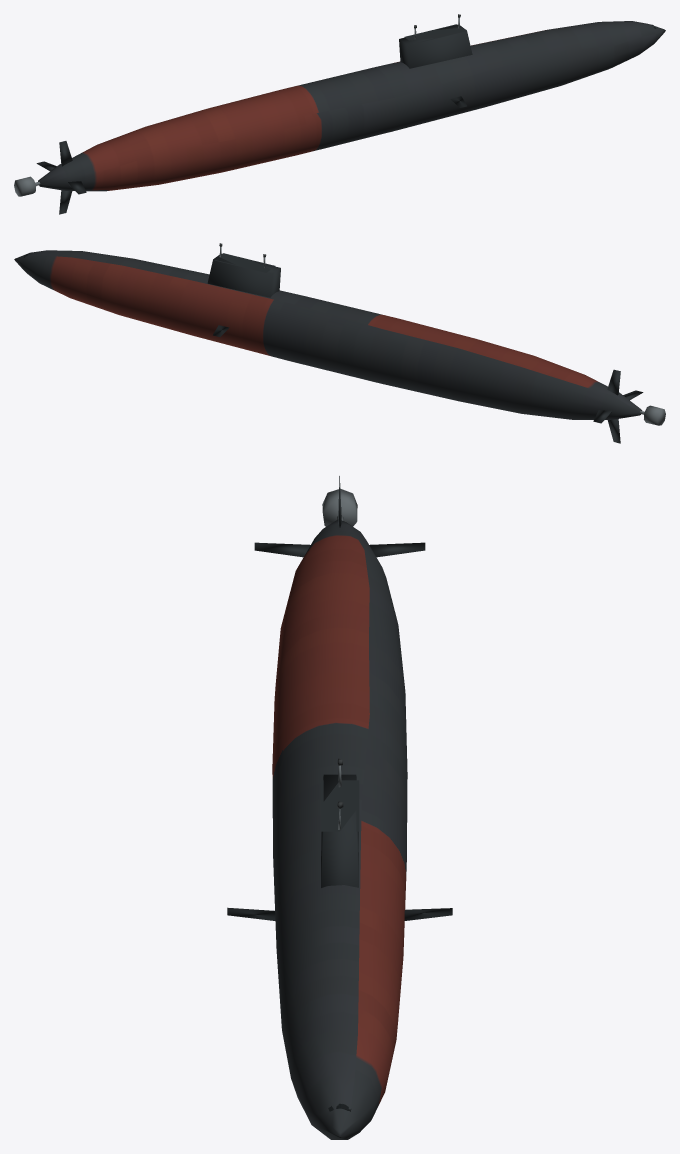
The model's file is RU_SSN_YasenM_LOD3.fbx.
3 renders of one model, top to bottom at view 1: azimuth 30°, elevation 25°; view 2: azimuth 150°, elevation 25°; view 3: azimuth 270°, elevation 25°, orthographic. The views are drawn at different scales.
Visible parts, largest first — view 1: RU_SSN_YasenM_LOD3; view 2: RU_SSN_YasenM_LOD3; view 3: RU_SSN_YasenM_LOD3.
Boxes of the visible parts, bbox=[...] form: RU_SSN_YasenM_LOD3: bbox=[14, 14, 665, 214]; RU_SSN_YasenM_LOD3: bbox=[14, 243, 665, 443]; RU_SSN_YasenM_LOD3: bbox=[227, 476, 452, 1139].
Size of the model in its own units: 144 by 21.66 by 21.71.
Materials: 6 (1 with a texture image).
